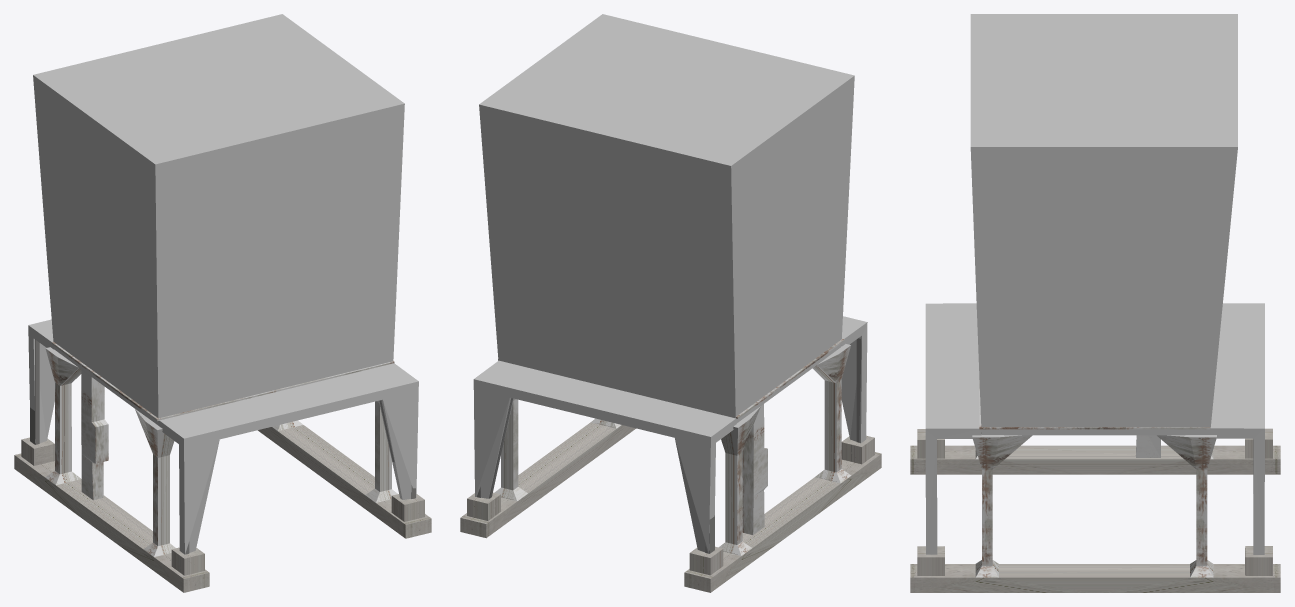
The model's file is s_mixershack.dae.
3 views of the same model, side by side, from view 1: azimuth 30°, elevation 25°; view 2: azimuth 150°, elevation 25°; view 3: azimuth 270°, elevation 25° (orthographic). The views are drawn at different scales.
Visible parts, largest first — view 1: Colmesh_s_mixershack-1, s_mixershack_L1000, s_mixershack_L250; view 2: Colmesh_s_mixershack-1, s_mixershack_L1000; view 3: Colmesh_s_mixershack-1, s_mixershack_L1000.
Part boxes in pixels (box(x1,y1,x2,y2)): Colmesh_s_mixershack-1: box(14, 14, 431, 592); s_mixershack_L1000: box(30, 342, 415, 554); s_mixershack_L250: box(30, 339, 415, 554); Colmesh_s_mixershack-1: box(460, 14, 881, 592); s_mixershack_L1000: box(477, 338, 860, 554); Colmesh_s_mixershack-1: box(910, 14, 1280, 592); s_mixershack_L1000: box(979, 380, 1253, 574).
Bounding box in the file's own units: 8.73 × 10.26 × 13.65.
